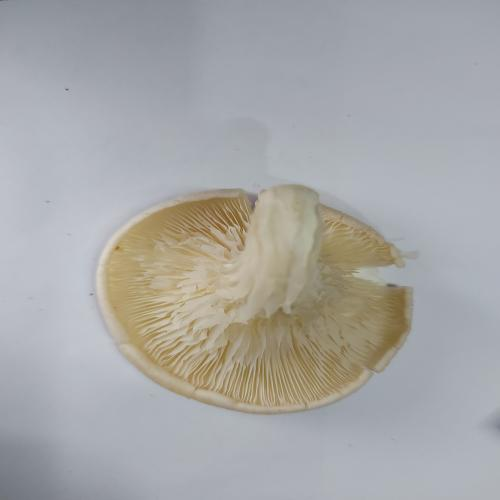Oyster Mushroom: (94, 183, 416, 415)
